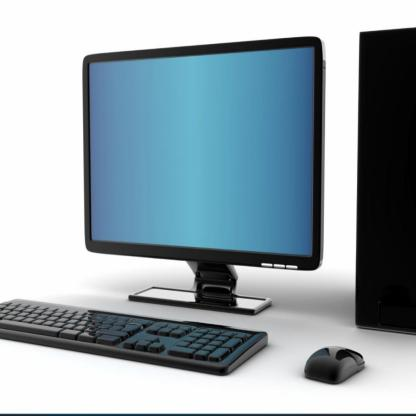DESKTOP: (3, 10, 416, 416)
